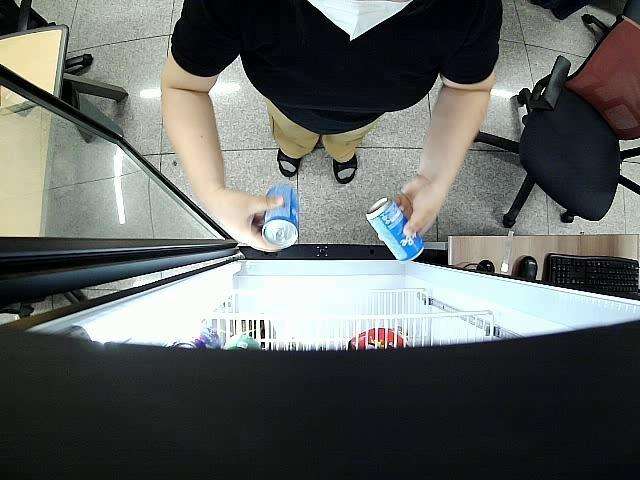15_letsbe: (366, 196, 424, 262), (264, 182, 301, 248)
